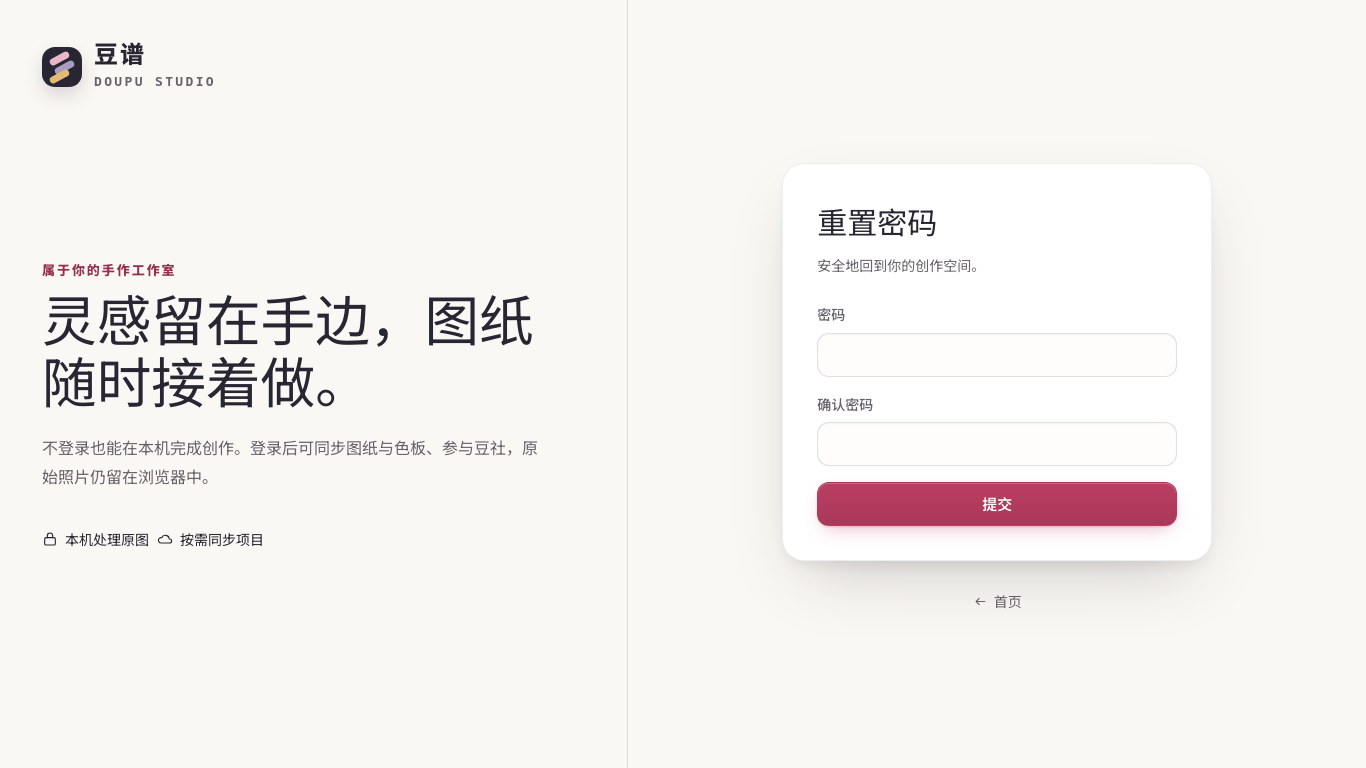
Test case: reset-password 页 › 密码不一致本地拦截
Type "12345678" into the password field labelled "密码".
click(997, 355); type("12345678")  # box [817, 333, 1177, 377]
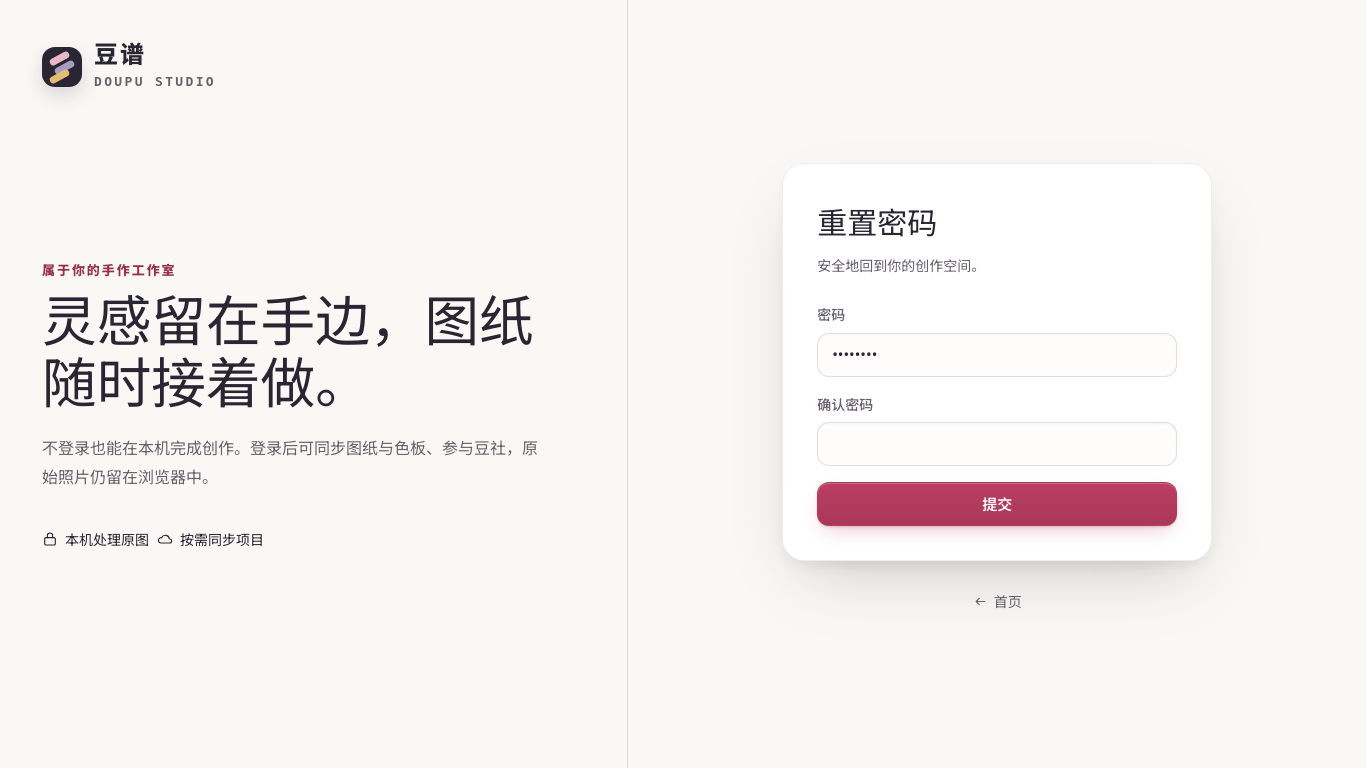
Type "87654321" into the password field labelled "确认密码".
click(997, 444); type("87654321")  # box [817, 422, 1177, 466]
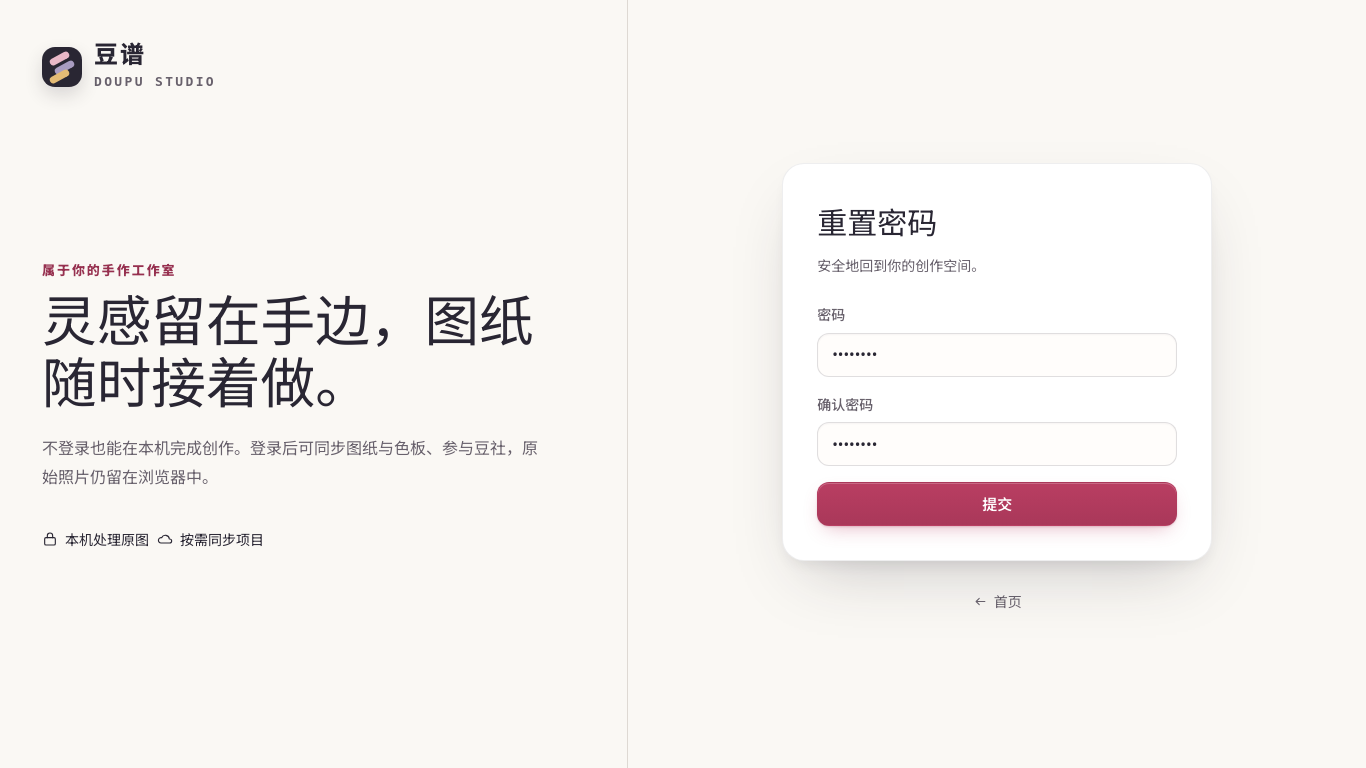
Click the button "提交".
click(997, 504)  # box [817, 482, 1177, 526]
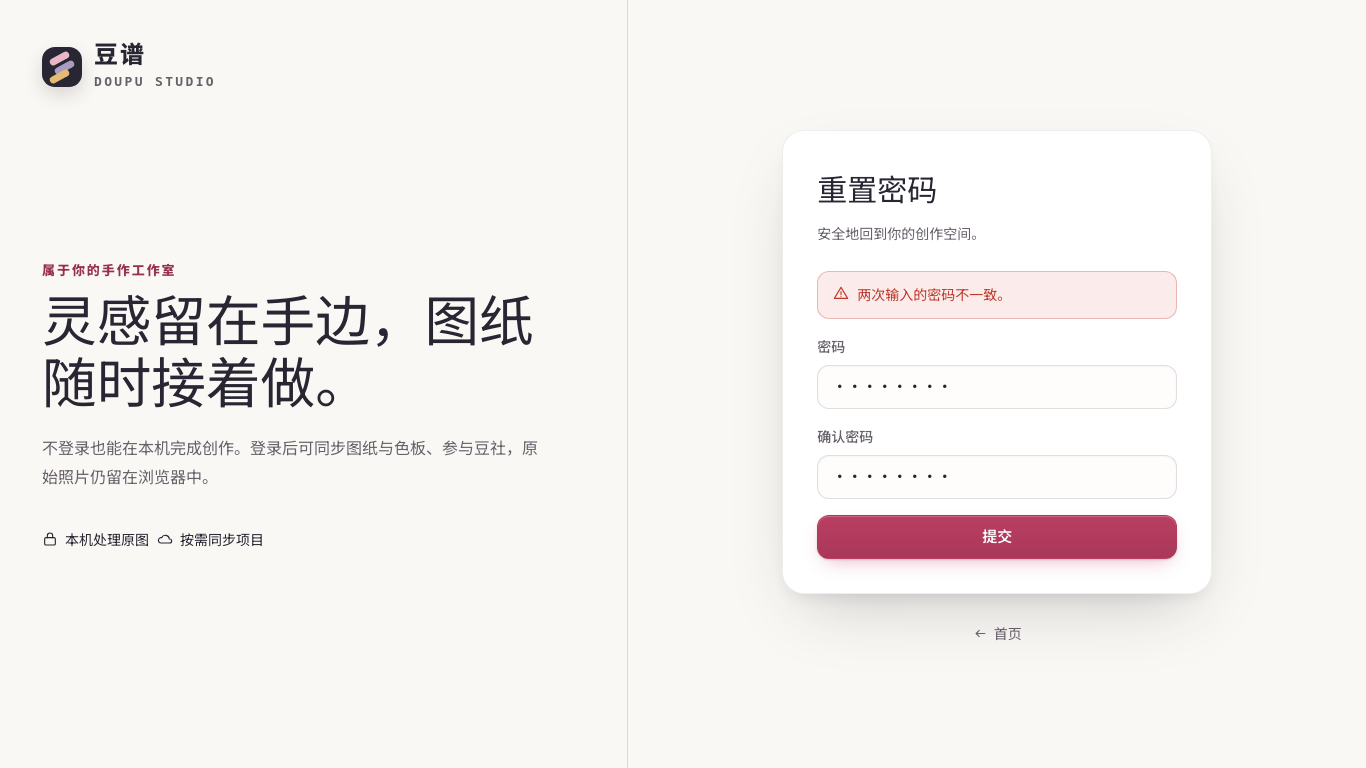
Now the message reads "两次输入的密码不一致。", box [857, 286, 1011, 303]
